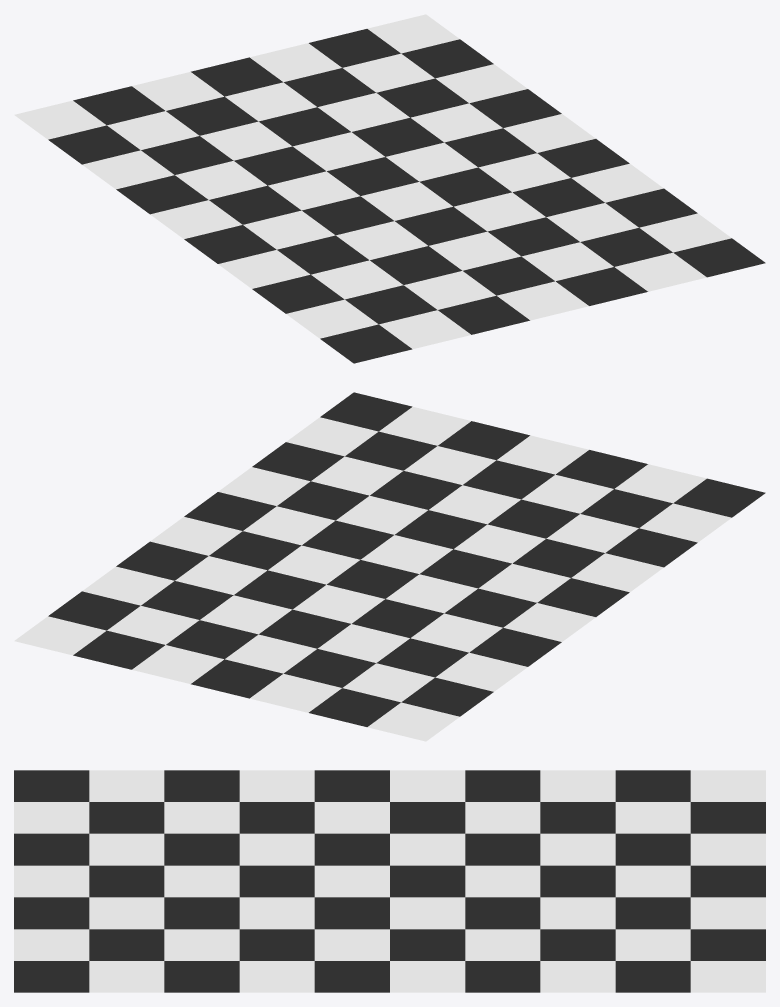
File: prp_5.fbx
3 renders of one model, top to bottom at view 1: azimuth 30°, elevation 25°; view 2: azimuth 150°, elevation 25°; view 3: azimuth 270°, elevation 25°, orthographic. The views are drawn at different scales.
Visible parts, largest first — view 1: pPlane2; view 2: pPlane2; view 3: pPlane2.
Part boxes in pixels (left/top/right/bottom): pPlane2: left=14, top=14, right=765, bottom=363; pPlane2: left=14, top=392, right=765, bottom=741; pPlane2: left=14, top=770, right=765, bottom=992.
Size of the model in its own units: 17.44 by 0 by 24.91.
